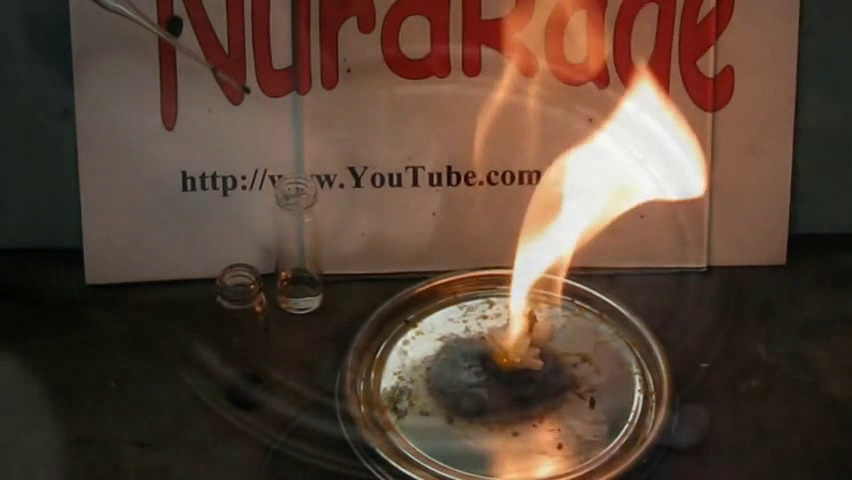fire: (501, 75, 718, 372)
